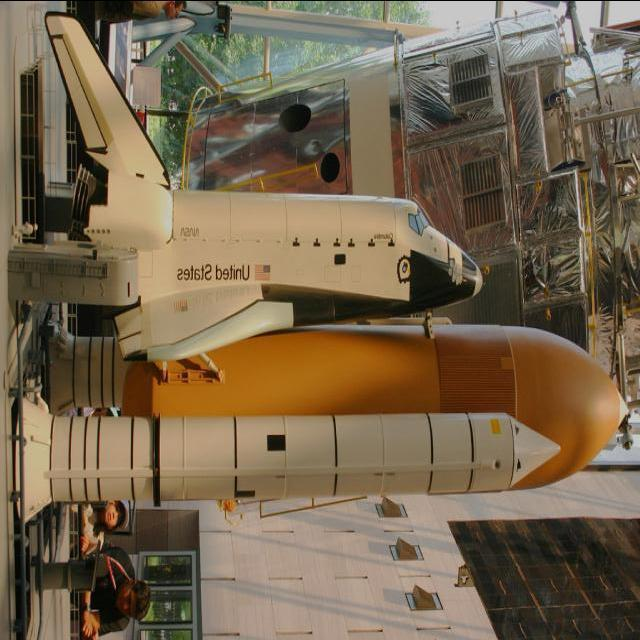Missile: (23, 397, 574, 506)
